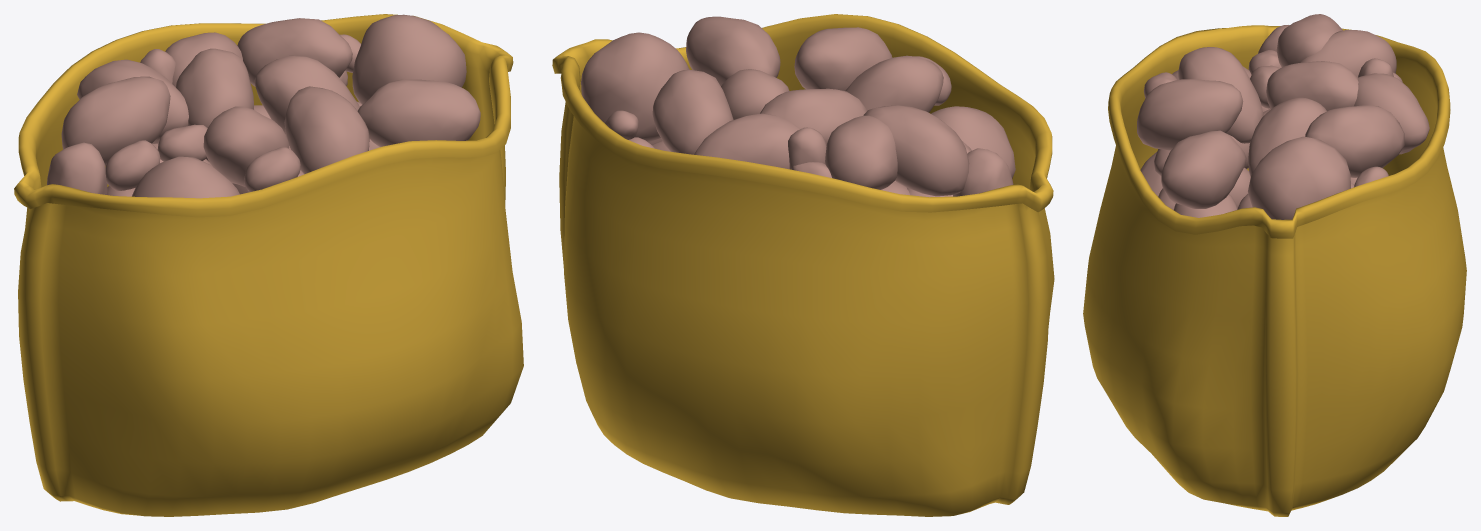
Rendered from SweetPotato.fbx.
3 views of the same model, side by side, from view 1: azimuth 30°, elevation 25°; view 2: azimuth 150°, elevation 25°; view 3: azimuth 270°, elevation 25° (orthographic). The views are drawn at different scales.
Visible parts, largest first — view 1: Kartoffelsack, Kartoffelgruppe; view 2: Kartoffelsack, Kartoffelgruppe; view 3: Kartoffelsack, Kartoffelgruppe.
Boxes of the visible parts, bbox=[...] form: Kartoffelsack: bbox=[14, 14, 523, 516]; Kartoffelgruppe: bbox=[47, 14, 480, 198]; Kartoffelsack: bbox=[552, 14, 1054, 516]; Kartoffelgruppe: bbox=[581, 16, 1015, 197]; Kartoffelsack: bbox=[1083, 25, 1466, 516]; Kartoffelgruppe: bbox=[1137, 14, 1429, 219].
Bounding box in the file's own units: 44.63 × 34.41 × 33.15.
